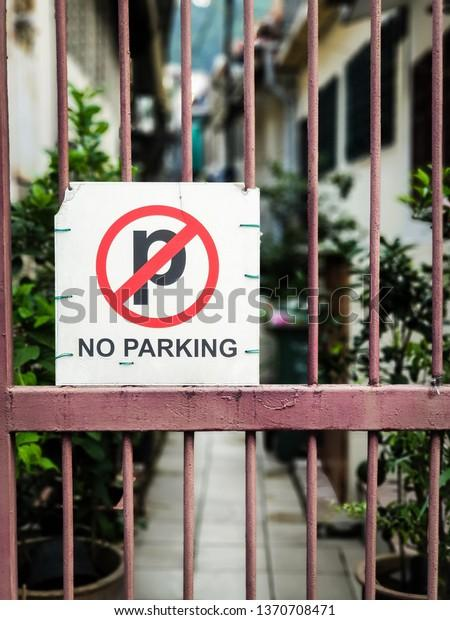No Parking: (60, 179, 263, 385)
